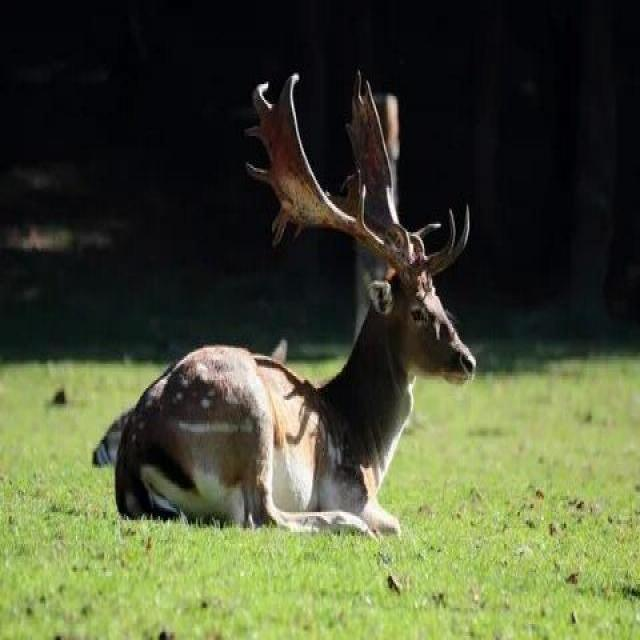deer: (106, 40, 516, 624)
